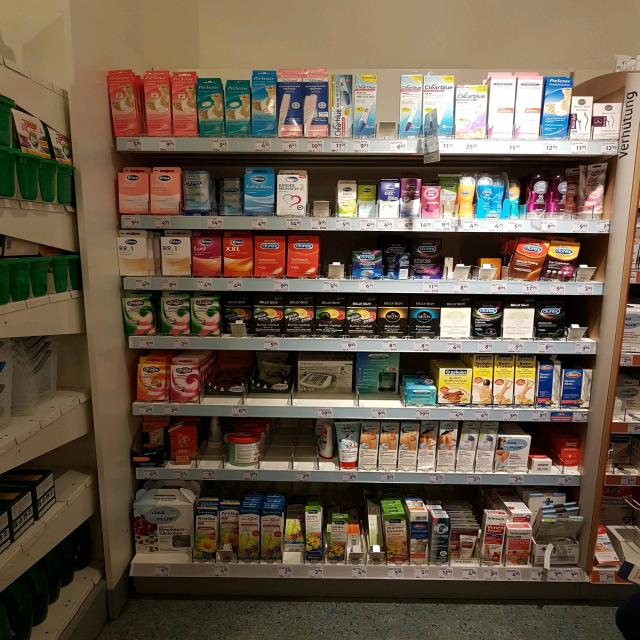void: (269, 420, 311, 483), (378, 69, 402, 156), (310, 164, 335, 228), (582, 237, 602, 301), (572, 300, 594, 355), (442, 240, 455, 296)
